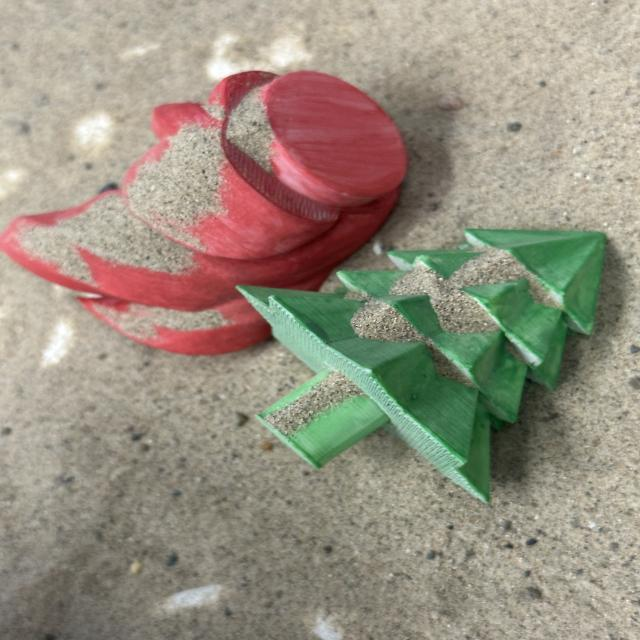fire: (1, 68, 408, 356)
tree: (236, 226, 608, 503)
